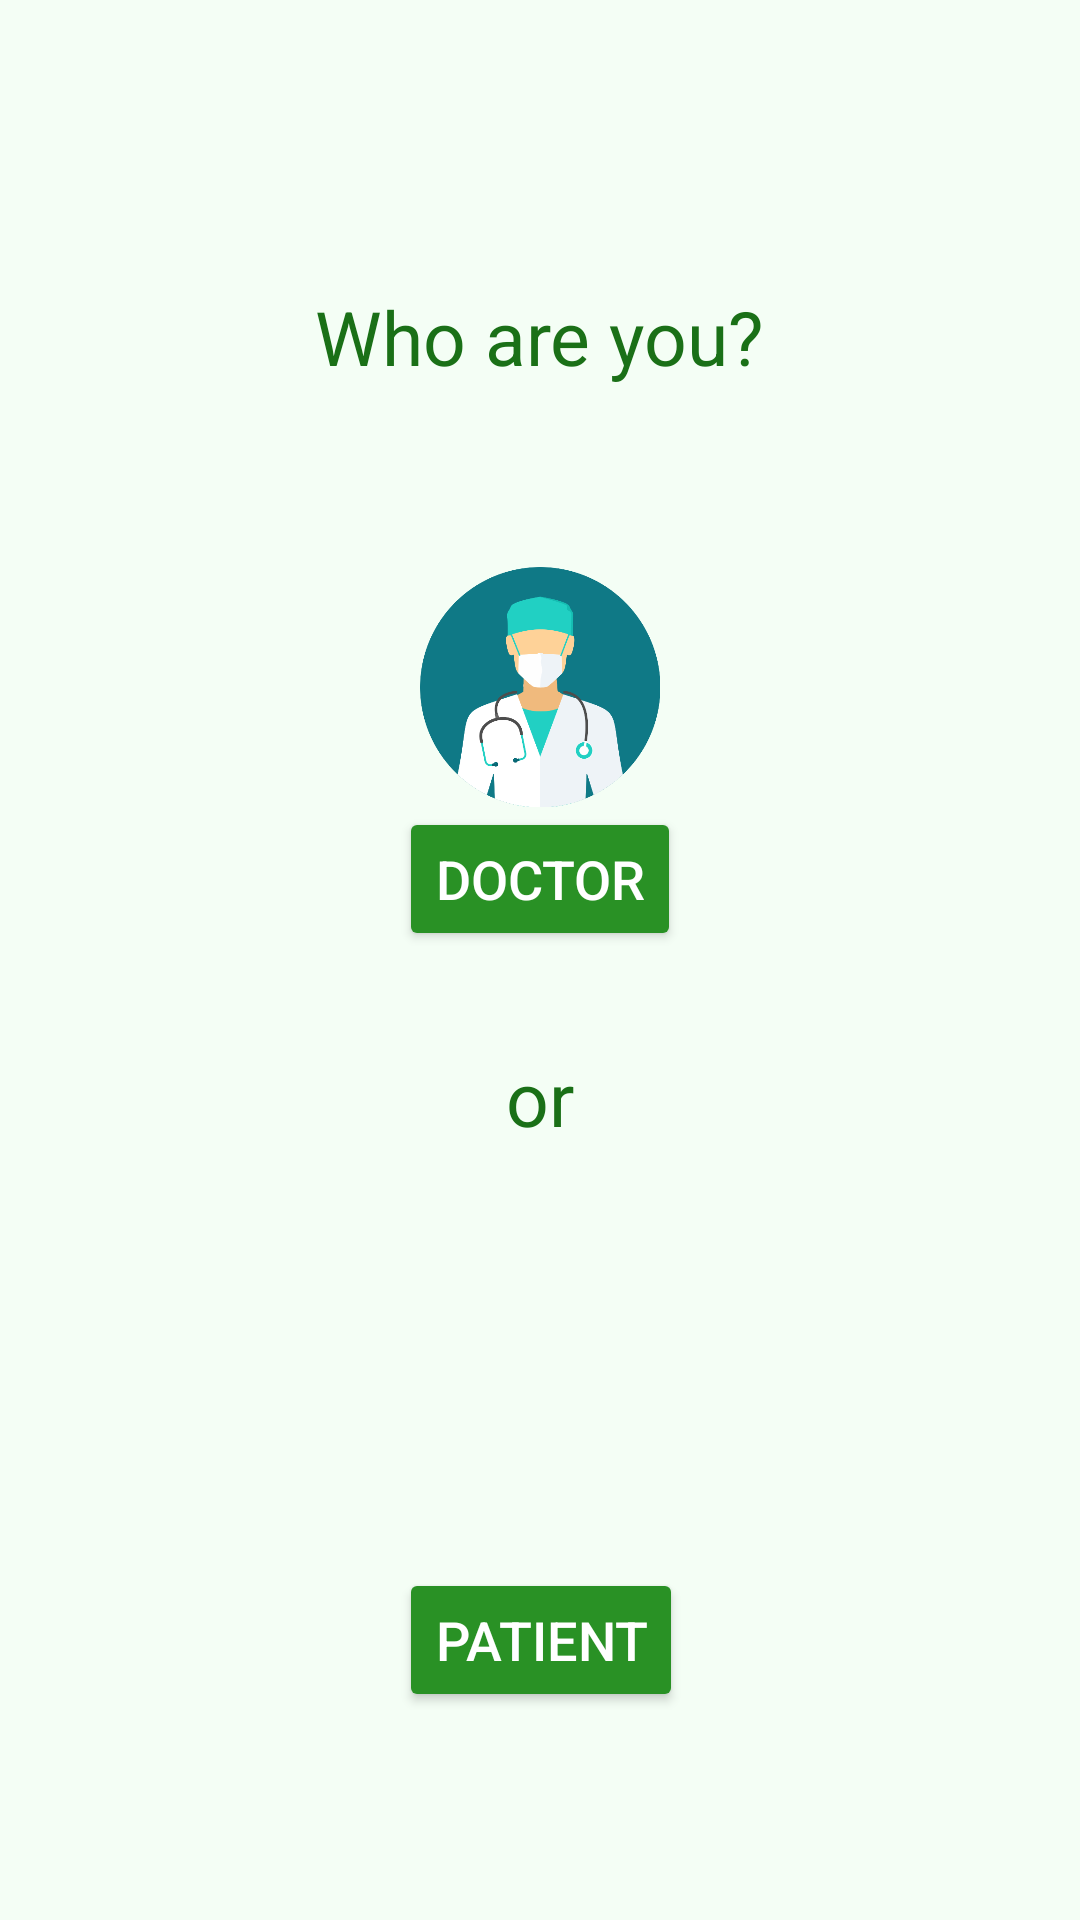

Screen size 1080 × 1920. Icon name, then its center in pixels as point (x, y):
surgeon: point (540, 687)
